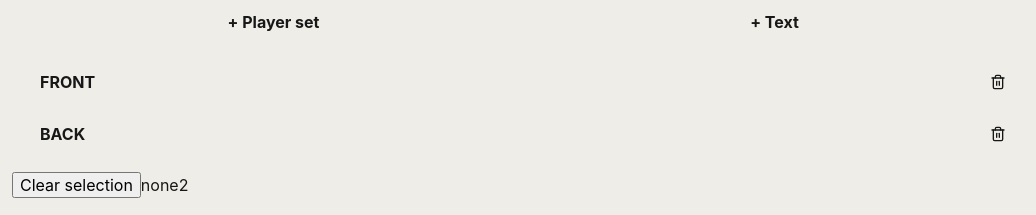
PersonalizePanel › does not steal focus when the shopper moves elsewhere during deletion
Click the button named "Delete text BACK (text-2)".
click(998, 134)  # box [976,112,1020,156]
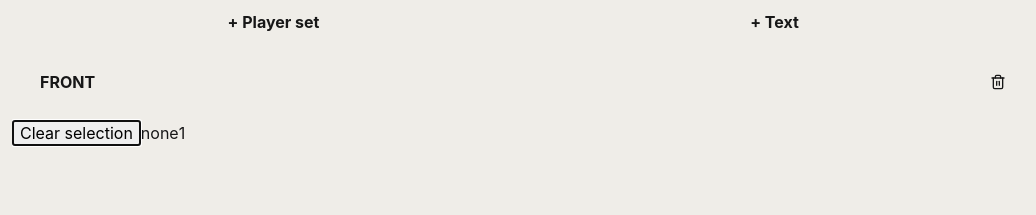
Check: the button "BACK" is gone
